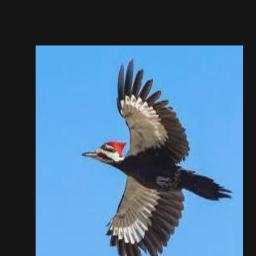Woodpecker: (81, 56, 233, 256)
